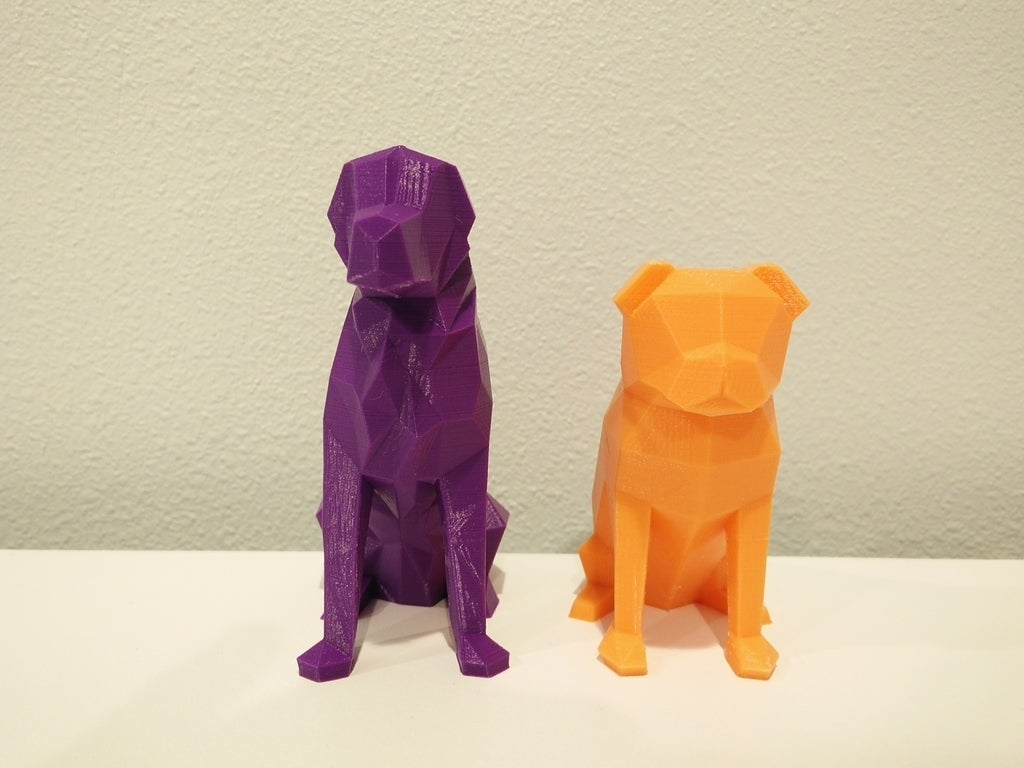Good: (218, 115, 858, 715)
